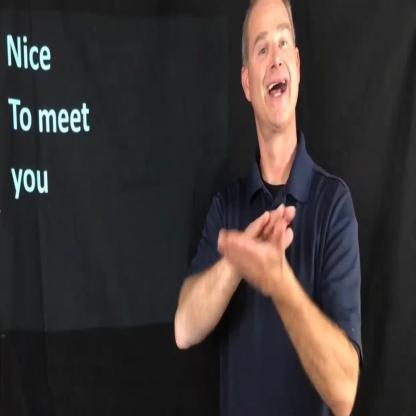NiceToMeetYou: (211, 189, 308, 315)
